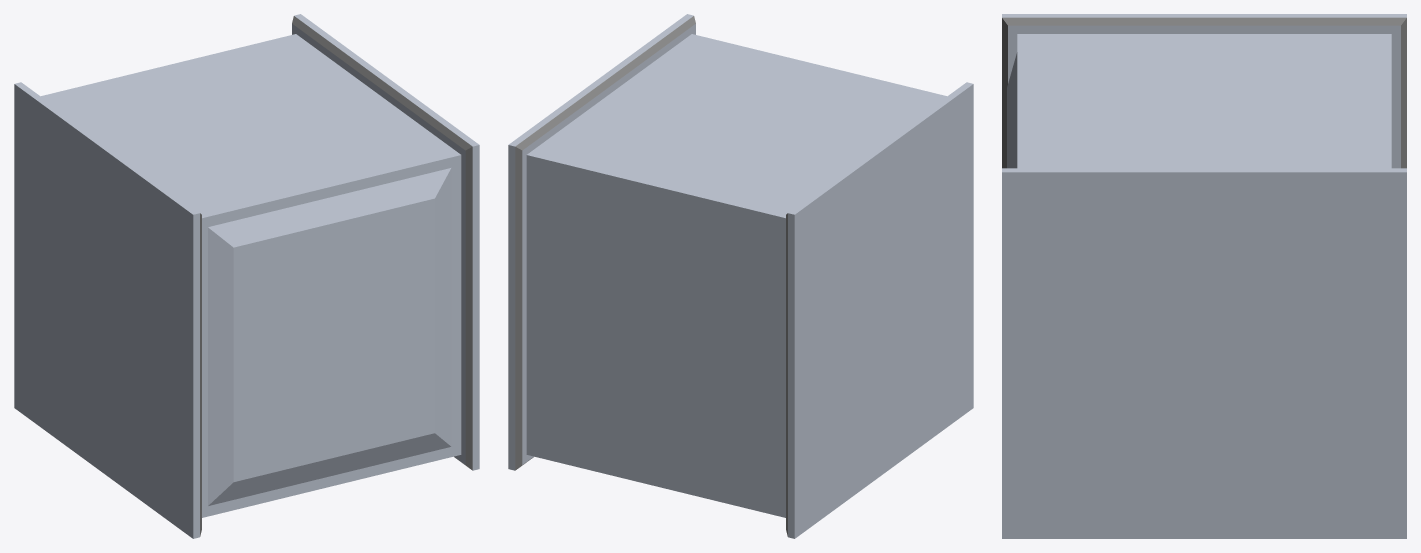
The model's file is DungeonWall.glb.
The picture shows the model from 3 angles, left to right: view 1: azimuth 30°, elevation 25°; view 2: azimuth 150°, elevation 25°; view 3: azimuth 270°, elevation 25°; orthographic projection. The views are drawn at different scales.
Visible parts, largest first — view 1: Wall; view 2: Wall; view 3: Wall.
Part boxes in pixels (x1,y1,x2,y2): Wall: (14, 14, 479, 538); Wall: (508, 14, 973, 538); Wall: (1002, 14, 1406, 538).
Bounding box in the file's own units: 2 × 2.16 × 2.16.
1 material, 1 textured.
